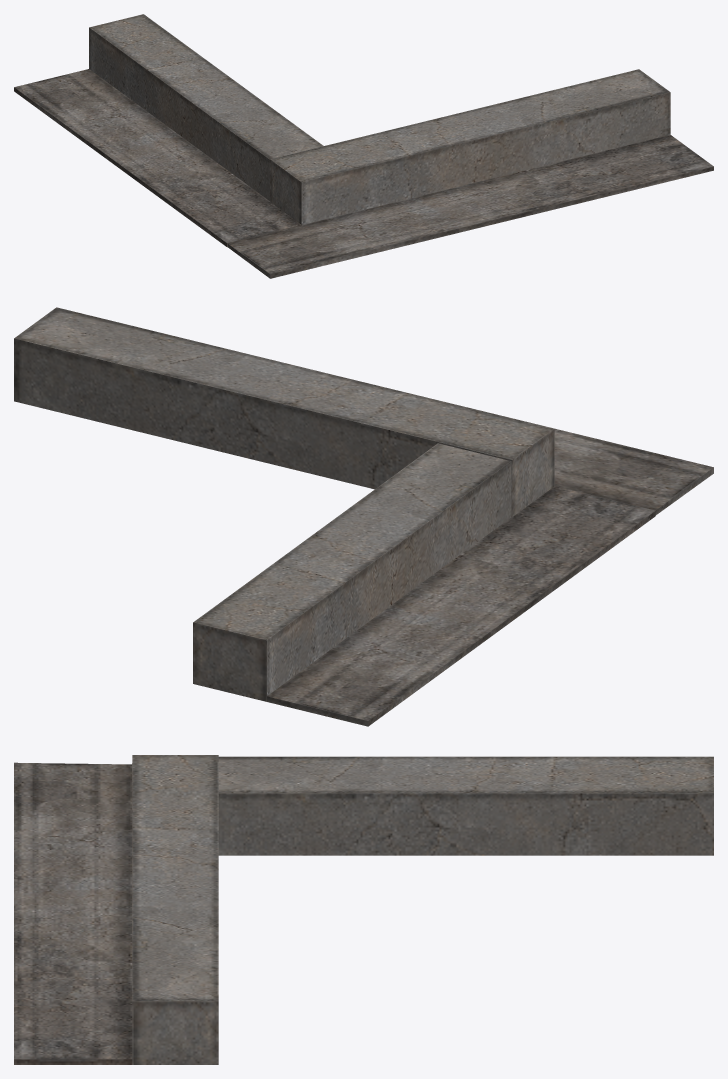
File: CP_Curbstone_Angle_Mini.fbx
3 renders of one model, top to bottom at view 1: azimuth 30°, elevation 25°; view 2: azimuth 150°, elevation 25°; view 3: azimuth 270°, elevation 25°, orthographic. The views are drawn at different scales.
Visible parts, largest first — view 1: CP_Curbstone_Angle_Mini; view 2: CP_Curbstone_Angle_Mini; view 3: CP_Curbstone_Angle_Mini.
Boxes of the visible parts, x1,y1,x2,y2 form: CP_Curbstone_Angle_Mini: (14,14,713,278); CP_Curbstone_Angle_Mini: (14,307,713,726); CP_Curbstone_Angle_Mini: (14,755,713,1064).
Bounding box in the file's own units: 130 × 13.05 × 130.
